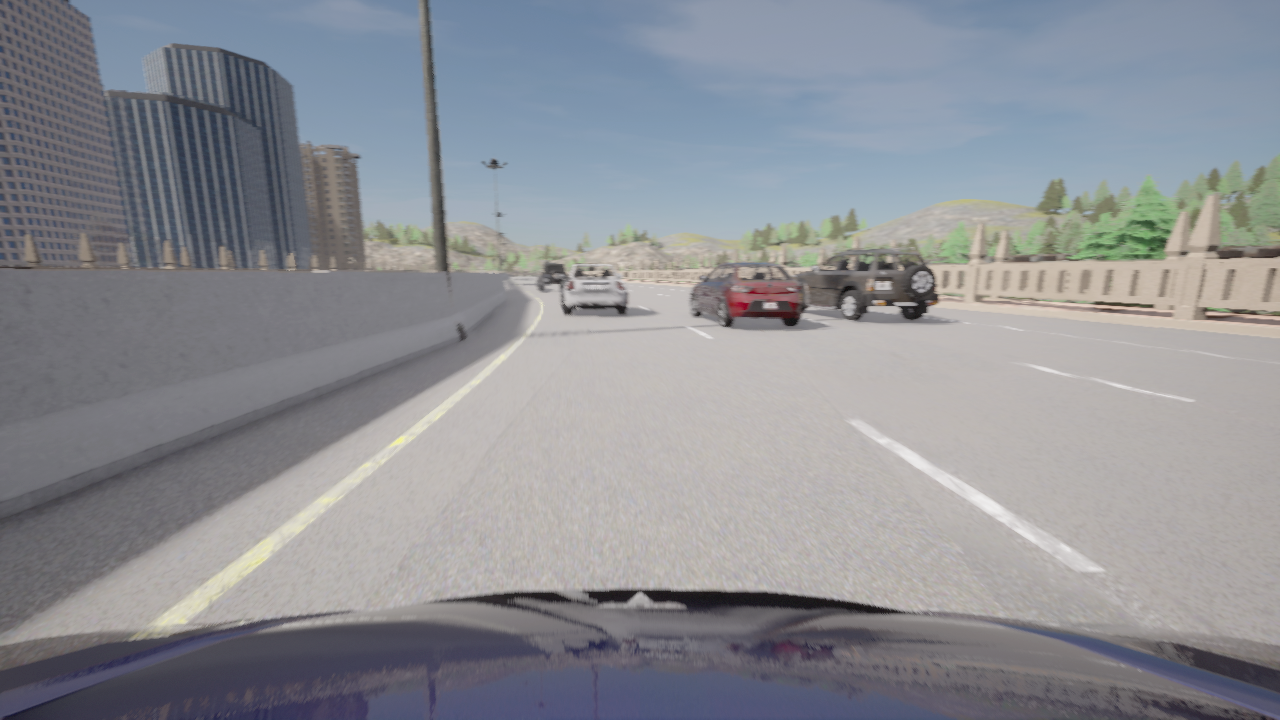cyclist: (0, 588, 1279, 719), (791, 248, 939, 321), (689, 262, 800, 327), (559, 264, 627, 316), (537, 263, 566, 291)
